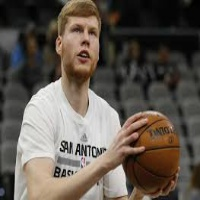ring: (124, 130, 141, 146), (163, 179, 175, 197)
